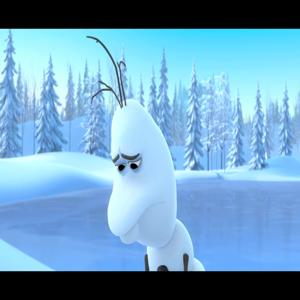olaf: (82, 41, 202, 269)
